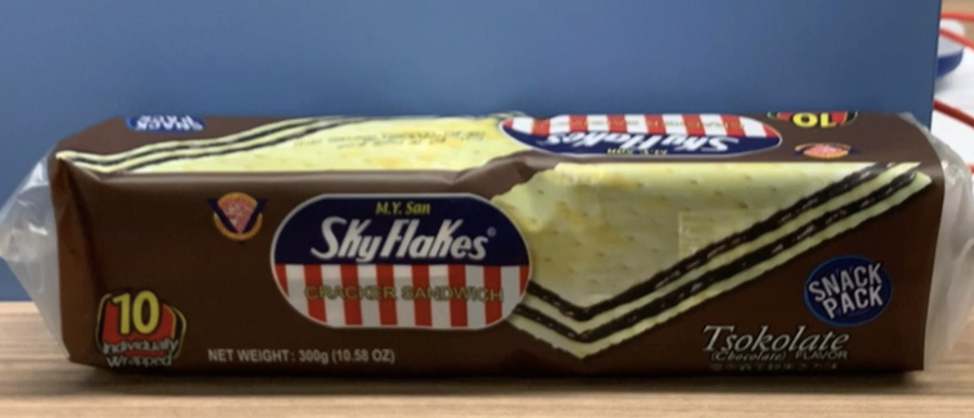crackers_150g: (81, 128, 911, 357)
